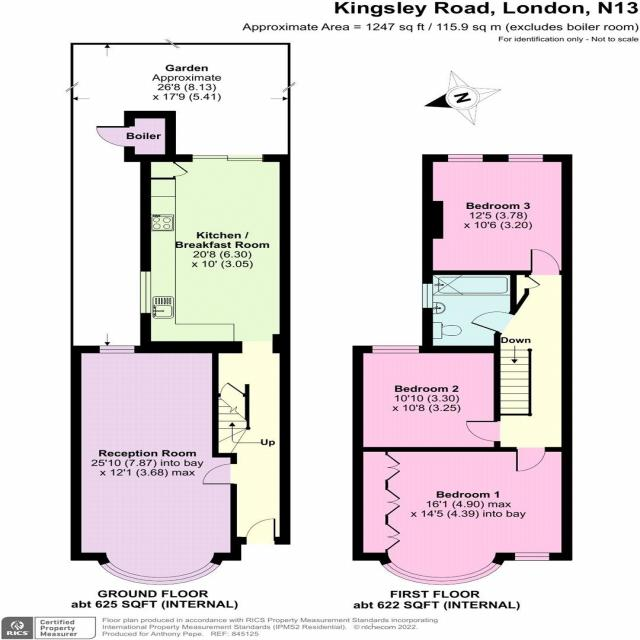DOOR: (469, 310, 515, 334), (529, 248, 561, 275), (245, 518, 276, 545), (465, 420, 502, 442), (201, 463, 238, 485), (515, 447, 546, 472)
ROOM: (70, 341, 241, 586), (352, 447, 573, 585), (139, 154, 291, 353), (422, 154, 572, 275), (352, 345, 501, 452)
SLIDING DOOR: (190, 154, 265, 162)
WINDOW: (381, 561, 503, 586), (99, 561, 221, 586), (139, 271, 152, 314), (371, 345, 421, 354), (514, 552, 550, 561), (99, 345, 135, 354), (447, 154, 483, 162), (422, 283, 433, 309), (508, 154, 543, 162)
